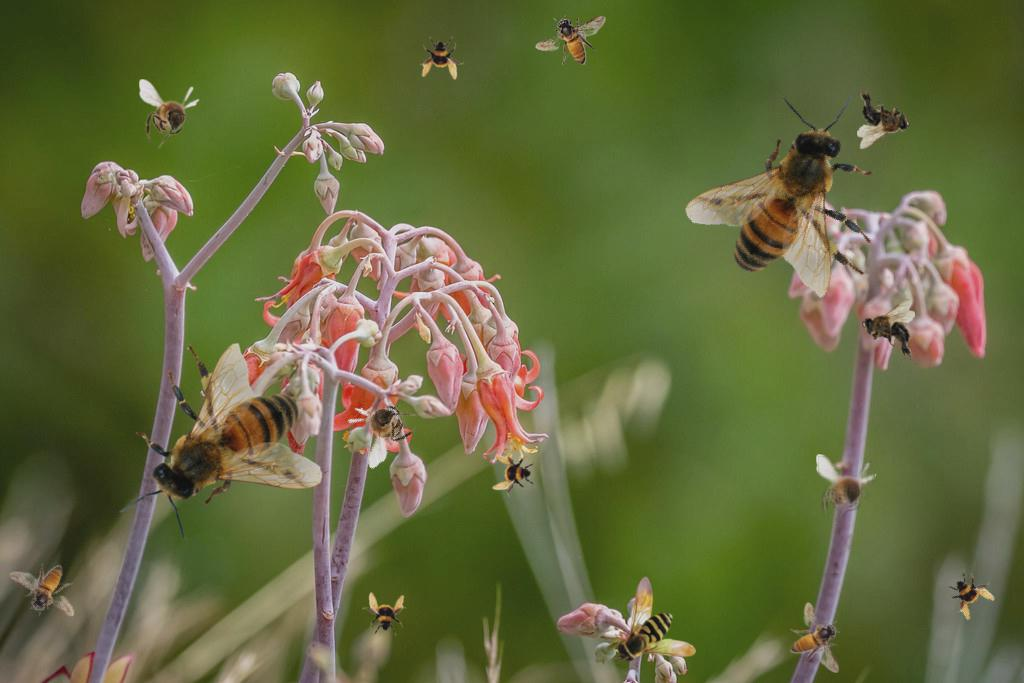Bee: (657, 66, 928, 336), (119, 343, 323, 542), (337, 380, 430, 470), (614, 576, 696, 664), (7, 547, 89, 634), (139, 79, 200, 149), (816, 454, 877, 524), (938, 561, 1002, 625), (535, 15, 606, 65), (790, 602, 840, 673), (862, 299, 915, 361), (857, 87, 910, 149), (362, 592, 406, 636), (420, 36, 464, 80), (492, 453, 536, 497)
